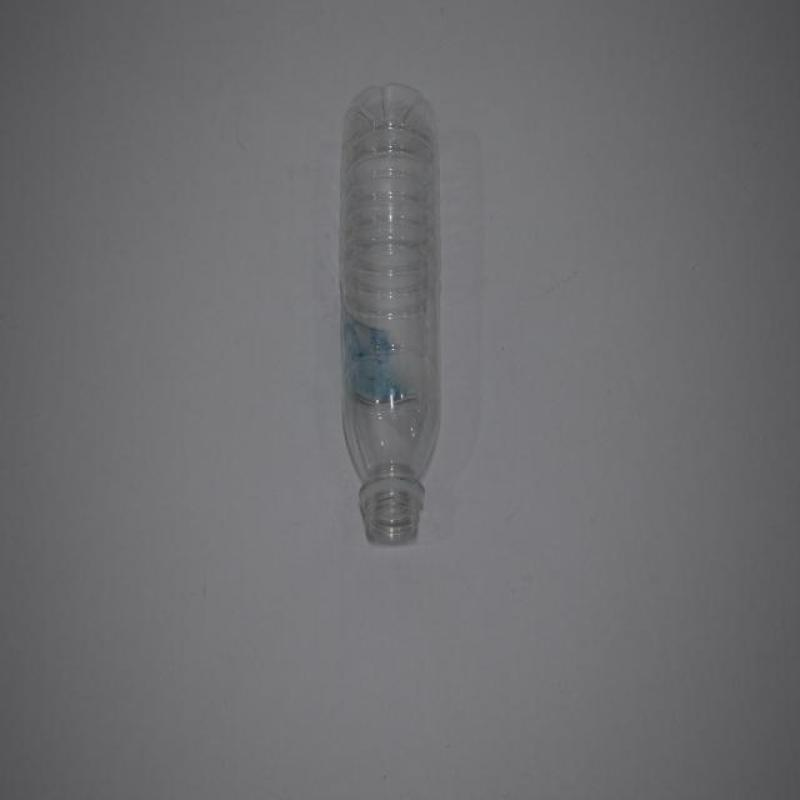botella: (333, 86, 442, 543)
